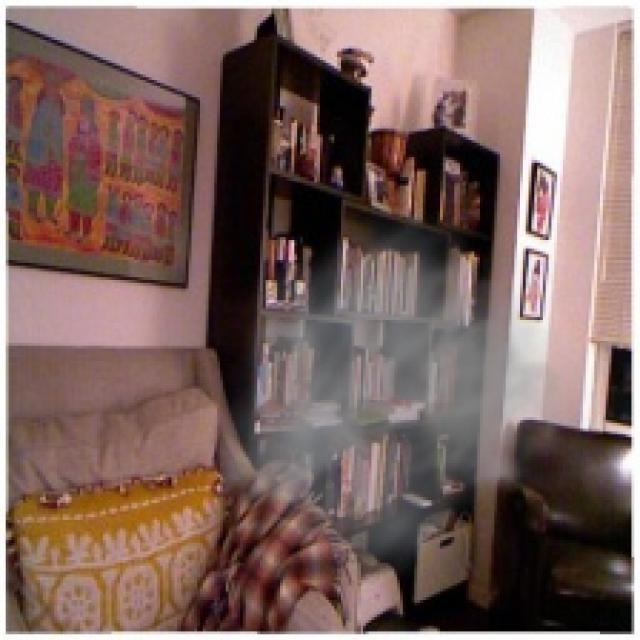Smoke: (220, 199, 609, 592)
